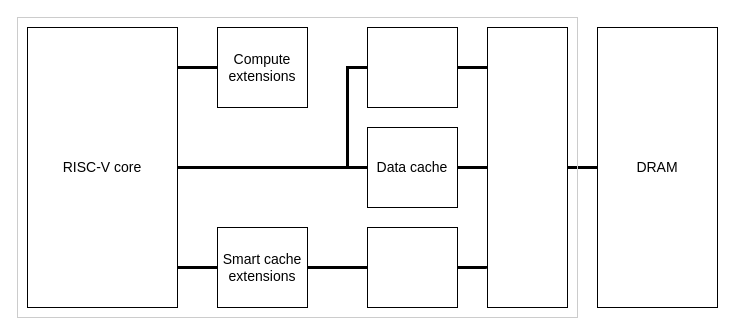
Some shapes in this 735 by 335 pixel diagram are drawn without their labels. The box of each missing label's shape, as (x1, y1, x2, y2) in pixels:
Instruction cache: (366, 26, 458, 108)
L2 cache: (486, 26, 568, 308)
Smart cache: (366, 226, 458, 308)
